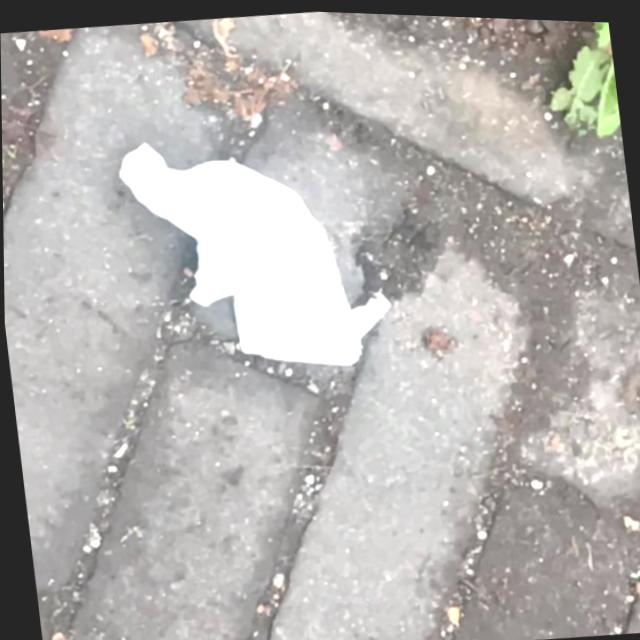Paper: (110, 113, 397, 389)
